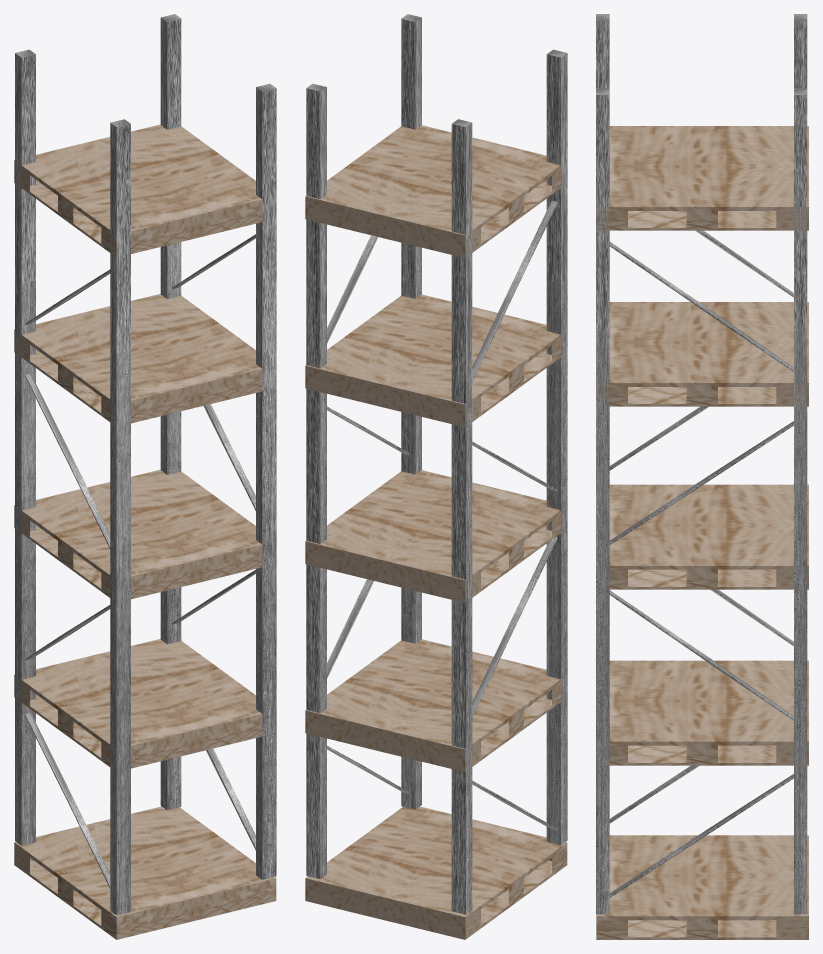
File: WarehouseRack.fbx
The picture shows the model from 3 angles, left to right: view 1: azimuth 30°, elevation 25°; view 2: azimuth 150°, elevation 25°; view 3: azimuth 270°, elevation 25°; orthographic projection. The views are drawn at different scales.
Parts seen in each view (by area): view 1: Cube; view 2: Cube; view 3: Cube.
Boxes of the visible parts, x1,y1,x2,y2 form: Cube: [14, 14, 276, 939]; Cube: [305, 14, 567, 939]; Cube: [596, 14, 808, 939].
Size of the model in its own units: 108 by 522 by 119.
2 materials, 2 textured.
